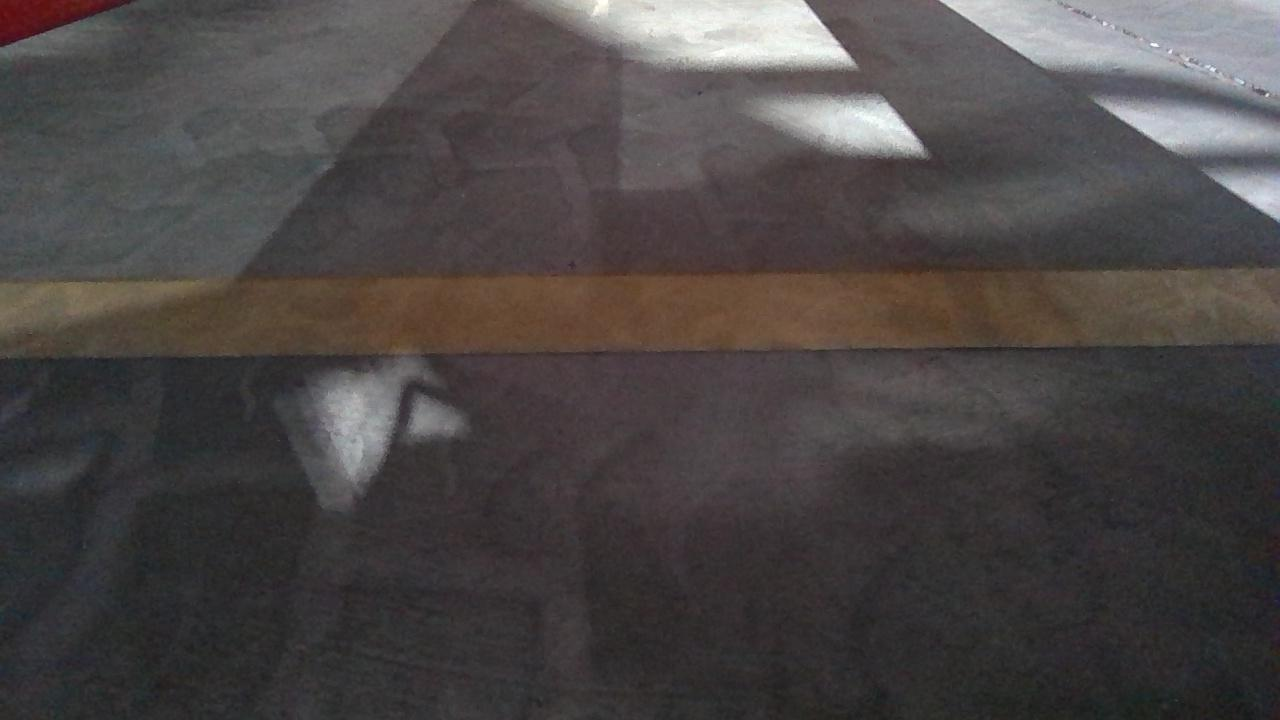yellow_line: (0, 278, 1280, 346)
